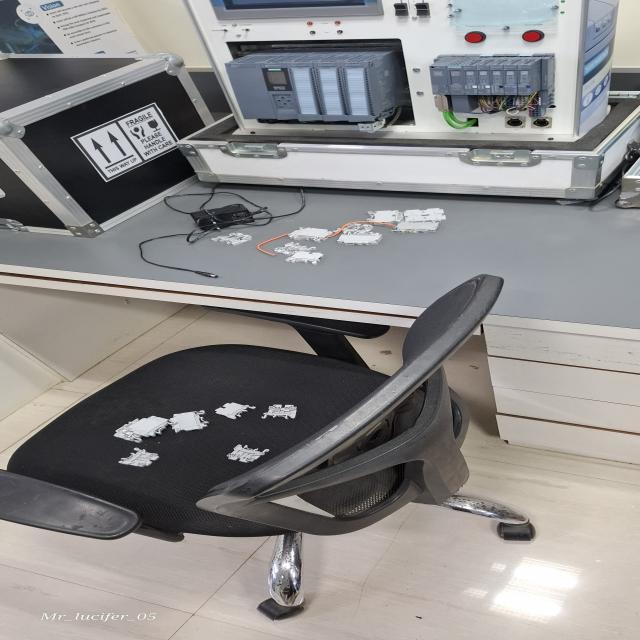Inverted: (213, 402, 258, 420)
Pass: (258, 404, 298, 422)
Reject: (225, 443, 272, 463), (115, 447, 161, 467)
